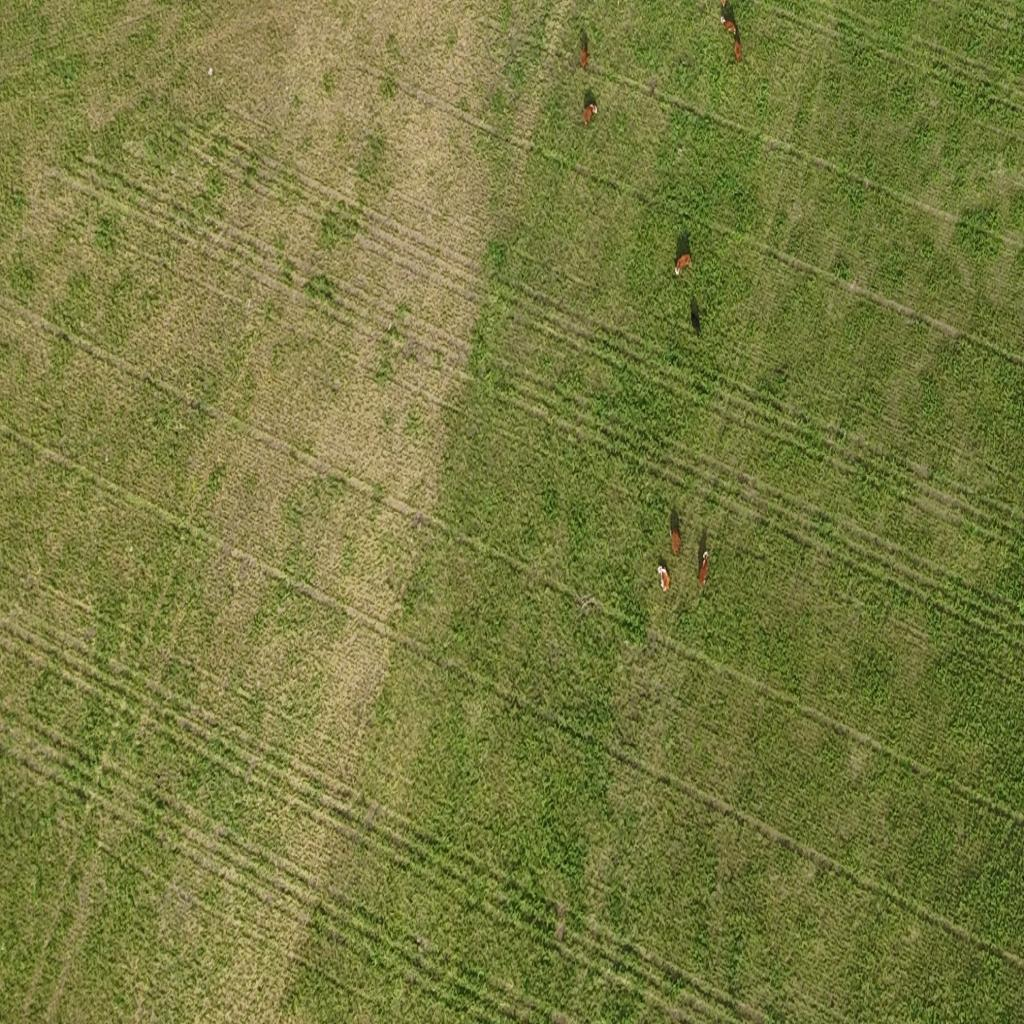cow: (669, 524, 682, 560), (689, 298, 701, 334), (698, 551, 710, 586), (582, 104, 598, 128), (674, 254, 691, 276), (730, 39, 744, 64), (721, 18, 736, 37), (660, 566, 671, 591), (580, 46, 588, 70)
